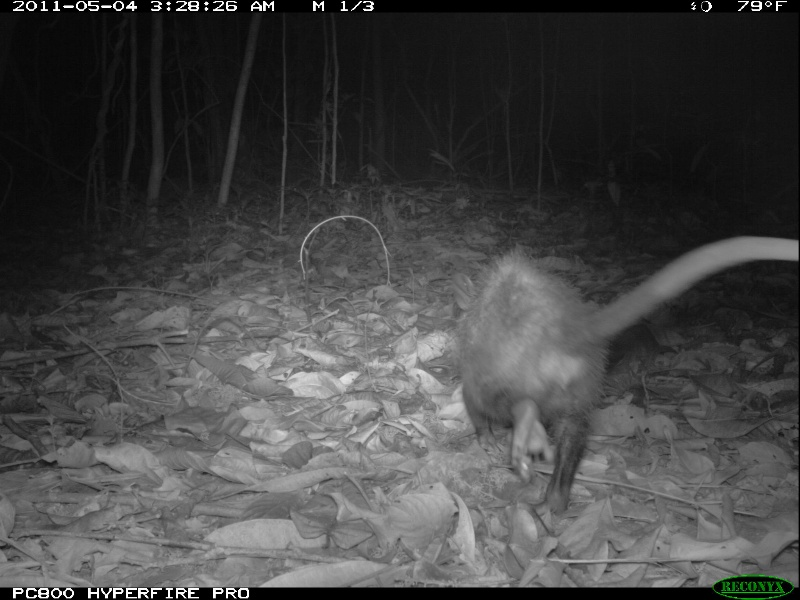opossum: (453, 209, 800, 515)
